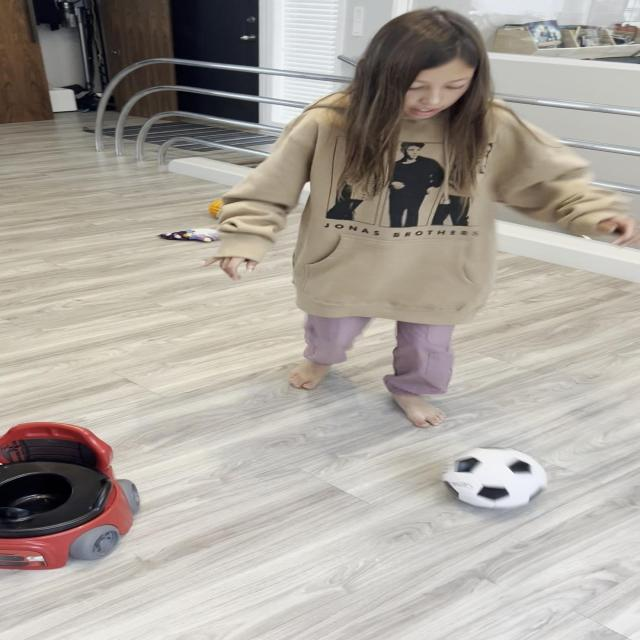Soccer Ball: (441, 448, 550, 510)
